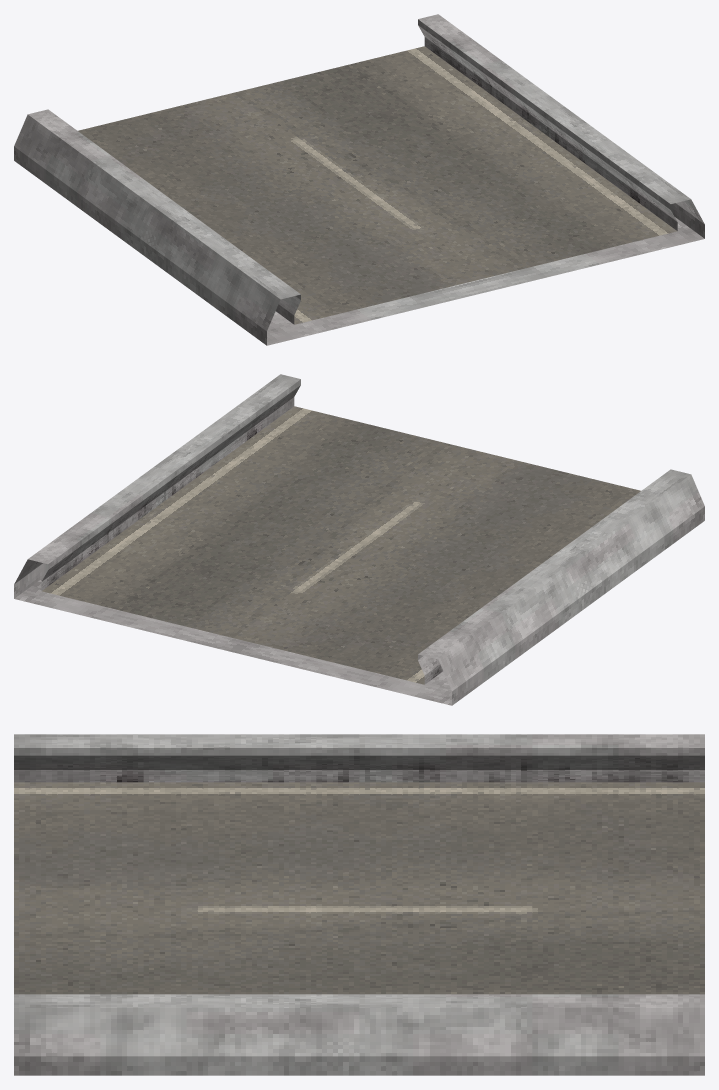
Rendered from straight1.glb.
The picture shows the model from 3 angles, top to bottom: view 1: azimuth 30°, elevation 25°; view 2: azimuth 150°, elevation 25°; view 3: azimuth 270°, elevation 25°; orthographic projection. The views are drawn at different scales.
Visible parts, largest first — view 1: road-Straight-Flat-Flat-Even-Center-Size1; view 2: road-Straight-Flat-Flat-Even-Center-Size1; view 3: road-Straight-Flat-Flat-Even-Center-Size1.
Part boxes in pixels (box(x1,y1,x2,y2)): road-Straight-Flat-Flat-Even-Center-Size1: box(14, 14, 704, 345); road-Straight-Flat-Flat-Even-Center-Size1: box(14, 374, 704, 705); road-Straight-Flat-Flat-Even-Center-Size1: box(14, 734, 704, 1075).
Bounding box in the file's own units: 1 × 0.0938 × 1.
Materials: 2 (2 with a texture image).
